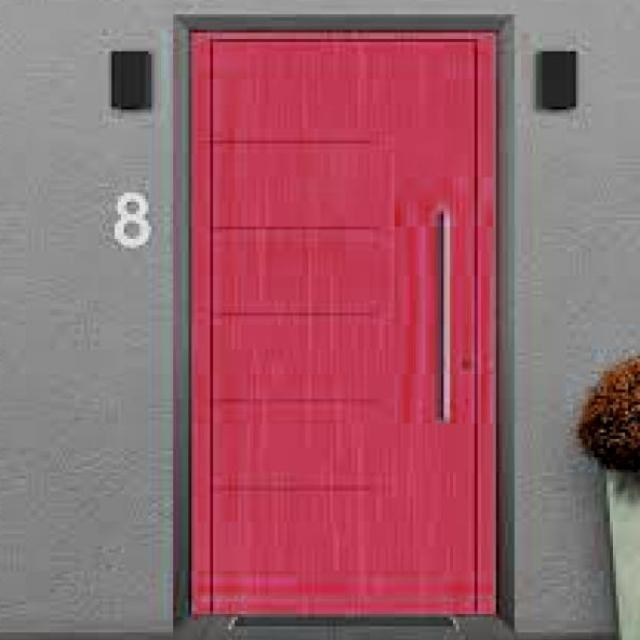door: (187, 26, 499, 619)
